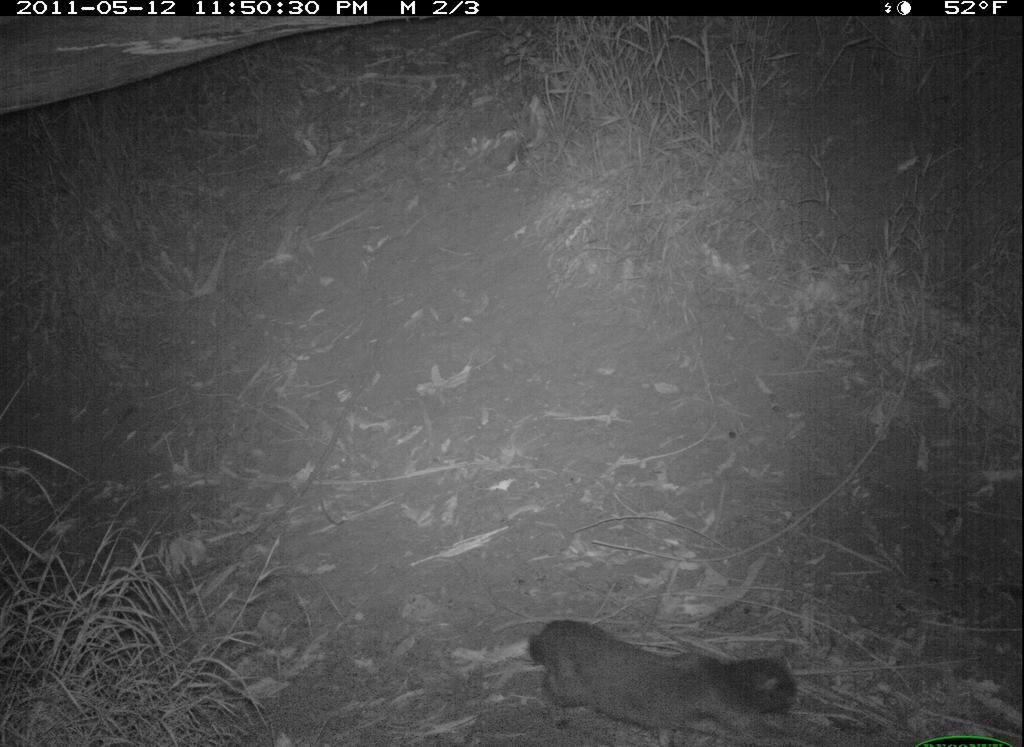cat: (514, 598, 807, 747)
